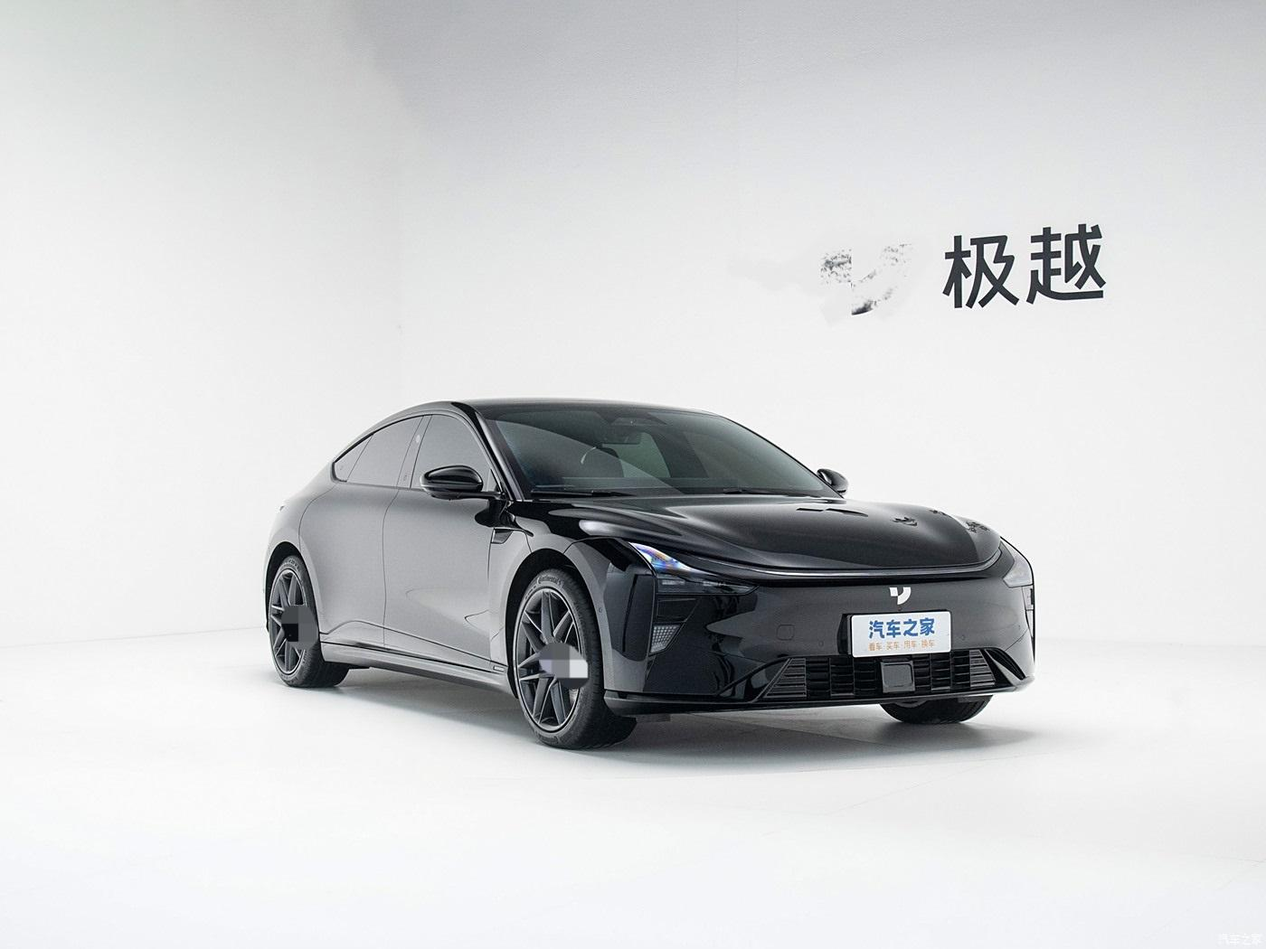JIYUE: (887, 586, 912, 606)
